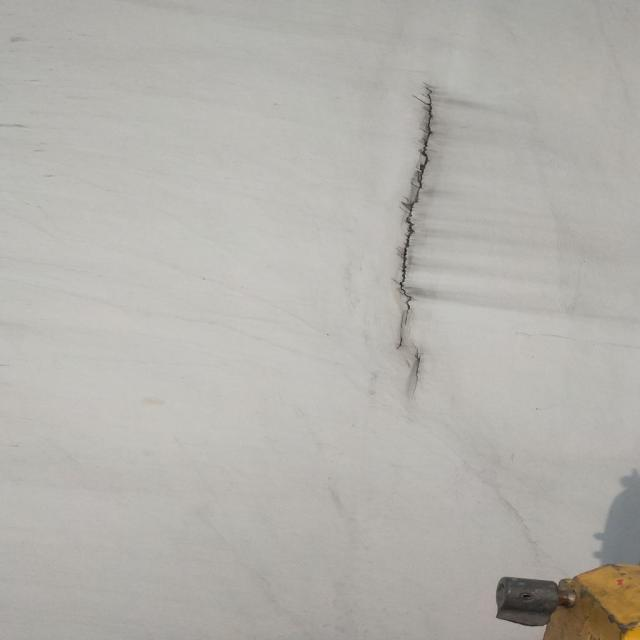crack: (389, 83, 443, 392)
